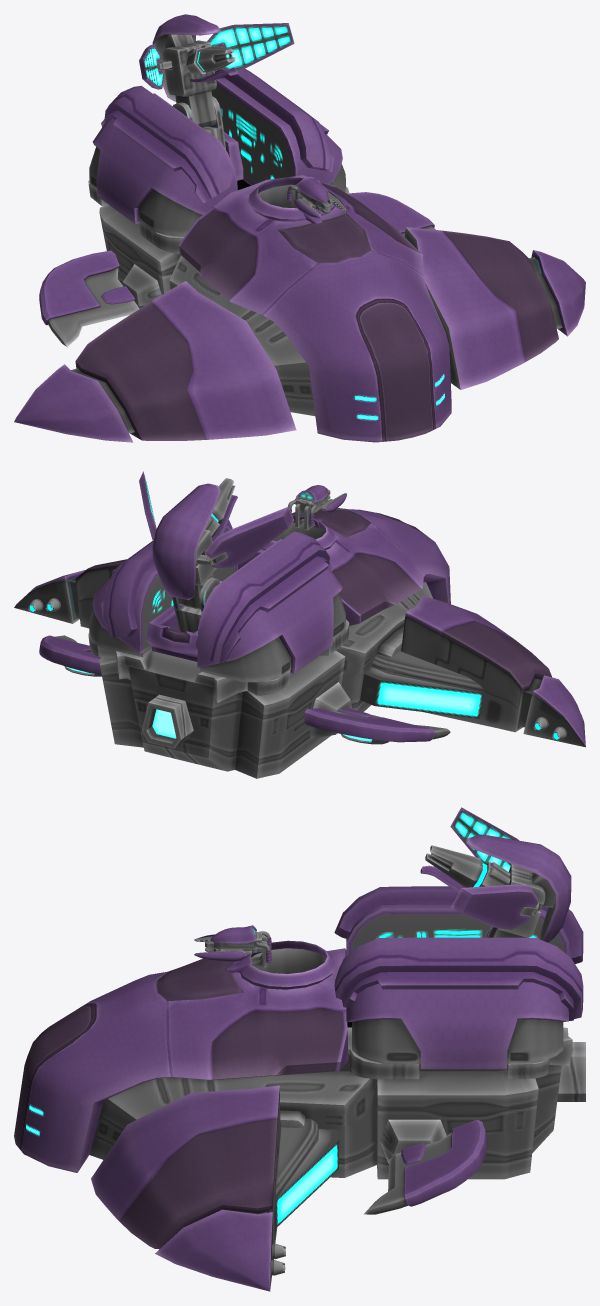
The model's file is wraith.glb.
3 renders of one model, top to bottom at view 1: azimuth 30°, elevation 25°; view 2: azimuth 150°, elevation 25°; view 3: azimuth 270°, elevation 25°, orthographic. The views are drawn at different scales.
Visible parts, largest first — view 1: Wraith:Body_0, Wraith:Wings_Front_2, Wraith:Hatch_8, Wraith:Wings_Back_1, Wraith:Mortar_Upper_7, Mortar_Stableizers1_6, Wraith:Cockpit_9, Wraith:Turret_4, Wraith:Mortar_Lower_3; view 2: Wraith:Body_0, Wraith:Wings_Front_2, Wraith:Hatch_8, Wraith:Mortar_Upper_7, Wraith:Wings_Back_1, Mortar_Stableizers1_6, Wraith:Turret_4, Wraith:Cockpit_9, Wraith:Mortar_Lower_3; view 3: Wraith:Body_0, Wraith:Wings_Front_2, Wraith:Hatch_8, Wraith:Mortar_Upper_7, Wraith:Wings_Back_1, Mortar_Stableizers1_6, Wraith:Turret_4, Wraith:Cockpit_9.
Boxes of the visible parts, box(x1,y1,x2,y2) form: Wraith:Body_0: box(88, 78, 451, 442); Wraith:Wings_Front_2: box(14, 227, 585, 442); Wraith:Hatch_8: box(101, 68, 334, 202); Wraith:Wings_Back_1: box(39, 192, 435, 347); Wraith:Mortar_Upper_7: box(152, 14, 237, 127); Mortar_Stableizers1_6: box(139, 23, 294, 89); Wraith:Cockpit_9: box(278, 213, 370, 263); Wraith:Turret_4: box(248, 176, 346, 221); Wraith:Mortar_Lower_3: box(173, 96, 225, 149); Wraith:Body_0: box(88, 508, 450, 778); Wraith:Wings_Front_2: box(14, 559, 585, 747); Wraith:Hatch_8: box(101, 520, 334, 663); Wraith:Mortar_Upper_7: box(152, 478, 237, 609); Wraith:Wings_Back_1: box(39, 635, 450, 744); Mortar_Stableizers1_6: box(139, 471, 294, 567); Wraith:Turret_4: box(261, 485, 346, 550); Wraith:Cockpit_9: box(292, 509, 370, 537); Wraith:Mortar_Lower_3: box(172, 577, 220, 632); Wraith:Body_0: box(14, 904, 585, 1179); Wraith:Wings_Front_2: box(91, 1085, 338, 1291); Wraith:Hatch_8: box(334, 886, 583, 1020); Wraith:Mortar_Upper_7: box(420, 834, 571, 942); Wraith:Wings_Back_1: box(364, 1119, 487, 1214); Mortar_Stableizers1_6: box(450, 807, 538, 929); Wraith:Turret_4: box(194, 925, 336, 989); Wraith:Cockpit_9: box(156, 958, 242, 1000).
Size of the model in its own units: 17.35 by 7.61 by 13.19.
Materials: 1 (1 with a texture image).
